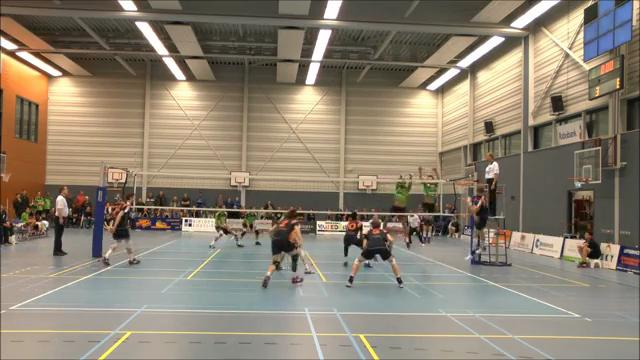Attack: (457, 181, 492, 258)
Block: (382, 166, 412, 248), (417, 162, 441, 246)
Player: (346, 220, 402, 286), (262, 209, 302, 287), (102, 194, 139, 265), (210, 211, 243, 248), (343, 212, 363, 266), (241, 207, 260, 244), (297, 237, 313, 274)
ball: (345, 165, 356, 173)
